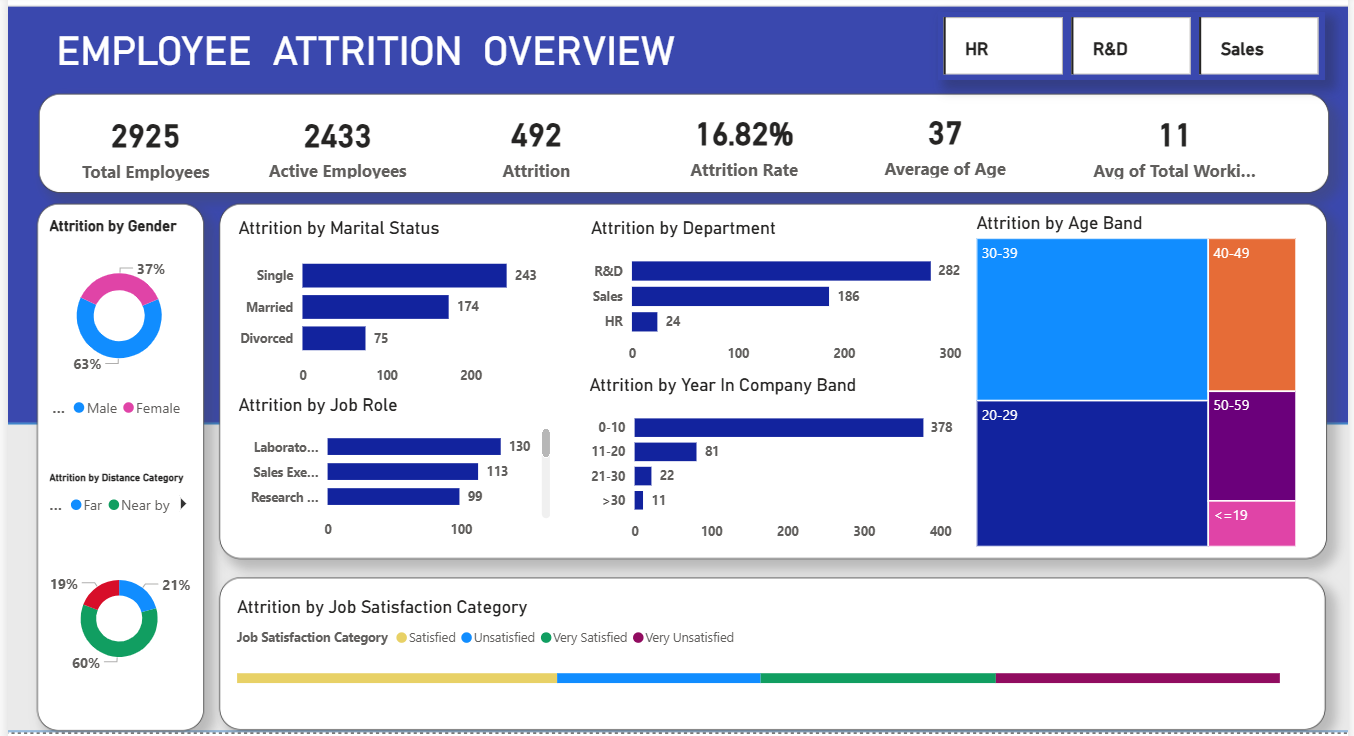

What the dashboard file says about the page in this screenshot:
{"tool":"powerbi","page":{"name":"Overview","canvas":[1280,720],"ordinal":2},"visuals":[{"type":"card","fields":{"Values":["_Measures.Total Employees"]},"box":[60.2,104.6,141.8,77.3],"z":0},{"type":"card","fields":{"Values":["CountNonNull(Data.Attrition)"]},"box":[232,104.6,164.7,75.9],"z":1000},{"type":"card","fields":{"Values":["_Measures.Attrition"]},"box":[428.3,103.1,151.8,77.3],"z":2000},{"type":"card","fields":{"Values":["_Measures.Attrition Rate"]},"box":[623.1,103.1,159,75.9],"z":3000},{"type":"card","fields":{"Values":["Avg(Data.Age)"]},"box":[819.3,101.7,150.4,77.3],"z":4000},{"type":"card","fields":{"Values":["Avg(Data.Total Working Years)"]},"box":[1027,103.1,173.3,77.3],"z":5000},{"type":"donutChart","fields":{"Y":["_Measures.Attrition"],"Category":["Data.Gender"]},"box":[35,211.4,142.9,201.2],"z":6000},{"type":"donutChart","fields":{"Y":["_Measures.Attrition"],"Series":["Data.Distance Category"]},"box":[35,454.9,142.9,239.1],"z":7000},{"type":"barChart","fields":{"Category":["Data.Marital Status"],"Y":["_Measures.Attrition"]},"box":[214.3,211.4,307.6,169.1],"z":8000},{"type":"barChart","fields":{"Category":["Data.Job Role"],"Y":["_Measures.Attrition"]},"box":[214.3,380.5,307.6,147.2],"z":9000},{"type":"barChart","fields":{"Category":["Data.Department"],"Y":["_Measures.Attrition"]},"box":[551.1,211.4,373.2,148.7],"z":10000},{"type":"barChart","fields":{"Y":["_Measures.Attrition"],"Category":["Data.Year In Company Band"]},"box":[549.6,363,367.4,167.7],"z":11000},{"type":"treemap","fields":{"Values":["_Measures.Attrition"],"Group":["Data.Age Band"]},"box":[919.9,207,314.9,323.6],"z":12000},{"type":"barChart","fields":{"Y":["_Measures.Attrition"],"Series":["Data.Job Satisfaction Category"]},"box":[212.8,574.4,1022,100.6],"z":13000},{"type":"advancedSlicerVisual","fields":{"Values":["Data.Department"]},"box":[887.8,16,370.3,65.6],"z":14000},{"type":"textbox","box":[10.2,26.2,663.3,65.6],"z":15000}]}

Visuals, with their boxes on the page's 1280x720 design canvas (x1, y1, x2, y2). These are canvas units, not pixel positions in the 1354x736 screenshot, which may show the page scaled, cropped or inside an application window:
card - _Measures.Total Employees: <region>60, 105, 202, 182</region>
card - CountNonNull(Data.Attrition): <region>232, 105, 397, 180</region>
card - _Measures.Attrition: <region>428, 103, 580, 180</region>
card - _Measures.Attrition Rate: <region>623, 103, 782, 179</region>
card - Avg(Data.Age): <region>819, 102, 970, 179</region>
card - Avg(Data.Total Working Years): <region>1027, 103, 1200, 180</region>
donutChart - _Measures.Attrition x Data.Gender: <region>35, 211, 178, 413</region>
donutChart - _Measures.Attrition x Data.Distance Category: <region>35, 455, 178, 694</region>
barChart - Data.Marital Status x _Measures.Attrition: <region>214, 211, 522, 380</region>
barChart - Data.Job Role x _Measures.Attrition: <region>214, 380, 522, 528</region>
barChart - Data.Department x _Measures.Attrition: <region>551, 211, 924, 360</region>
barChart - _Measures.Attrition x Data.Year In Company Band: <region>550, 363, 917, 531</region>
treemap - _Measures.Attrition x Data.Age Band: <region>920, 207, 1235, 531</region>
barChart - _Measures.Attrition x Data.Job Satisfaction Category: <region>213, 574, 1235, 675</region>
advancedSlicerVisual - Data.Department: <region>888, 16, 1258, 82</region>
textbox: <region>10, 26, 674, 92</region>
